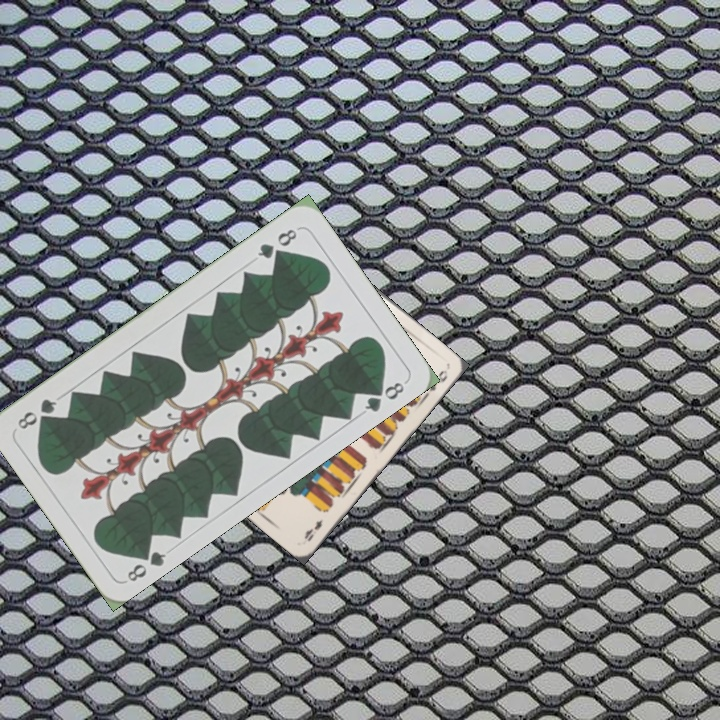E9: (300, 516, 325, 544)
G8: (123, 542, 169, 585), (253, 224, 300, 262)
